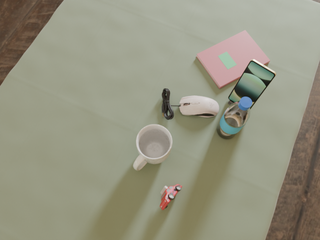book: (196, 30, 270, 89)
bottle: (217, 97, 252, 139)
cup: (133, 125, 172, 170)
mouse: (179, 96, 219, 117)
phone: (228, 59, 276, 109)
toy_car: (160, 184, 182, 210)
